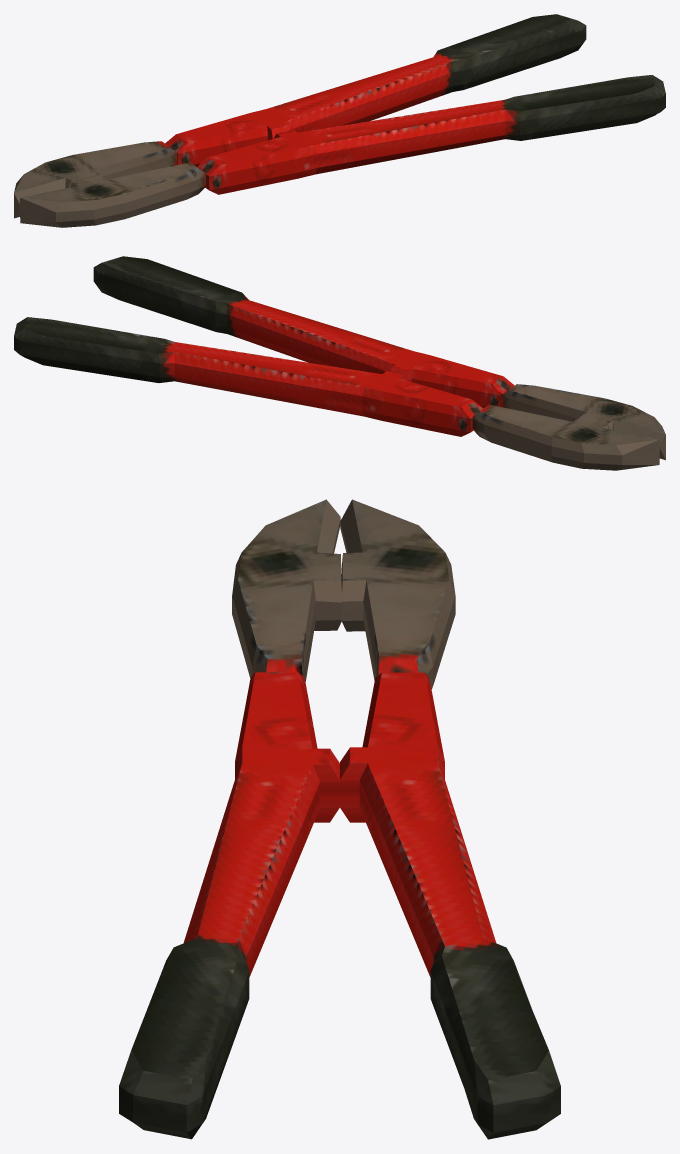
File: chain_cutters.fbx
3 renders of one model, top to bottom at view 1: azimuth 30°, elevation 25°; view 2: azimuth 150°, elevation 25°; view 3: azimuth 270°, elevation 25°, orthographic. The views are drawn at different scales.
Parts seen in each view (by area): view 1: Cube, Cube.001, Cube.002, Cube.003; view 2: Cube.001, Cube, Cube.003, Cube.002; view 3: Cube, Cube.001, Cube.003, Cube.002.
Boxes of the visible parts, x1,y1,x2,y2 form: Cube: (196, 75, 665, 194); Cube.001: (165, 14, 586, 165); Cube.002: (19, 162, 205, 227); Cube.003: (14, 141, 177, 218); Cube.001: (14, 317, 483, 436); Cube: (93, 256, 514, 408); Cube.003: (472, 404, 659, 470); Cube.002: (502, 384, 665, 460); Cube: (119, 672, 339, 1139); Cube.001: (340, 672, 560, 1139); Cube.003: (340, 499, 455, 689); Cube.002: (232, 499, 342, 681).
Bounding box in the file's own units: 494 × 23.78 × 156.
1 material, 1 textured.
